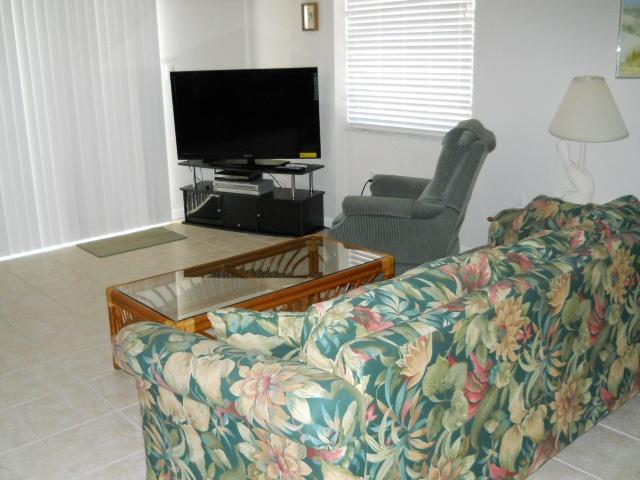AIO PC-Monitor-TV: (168, 66, 321, 168)
